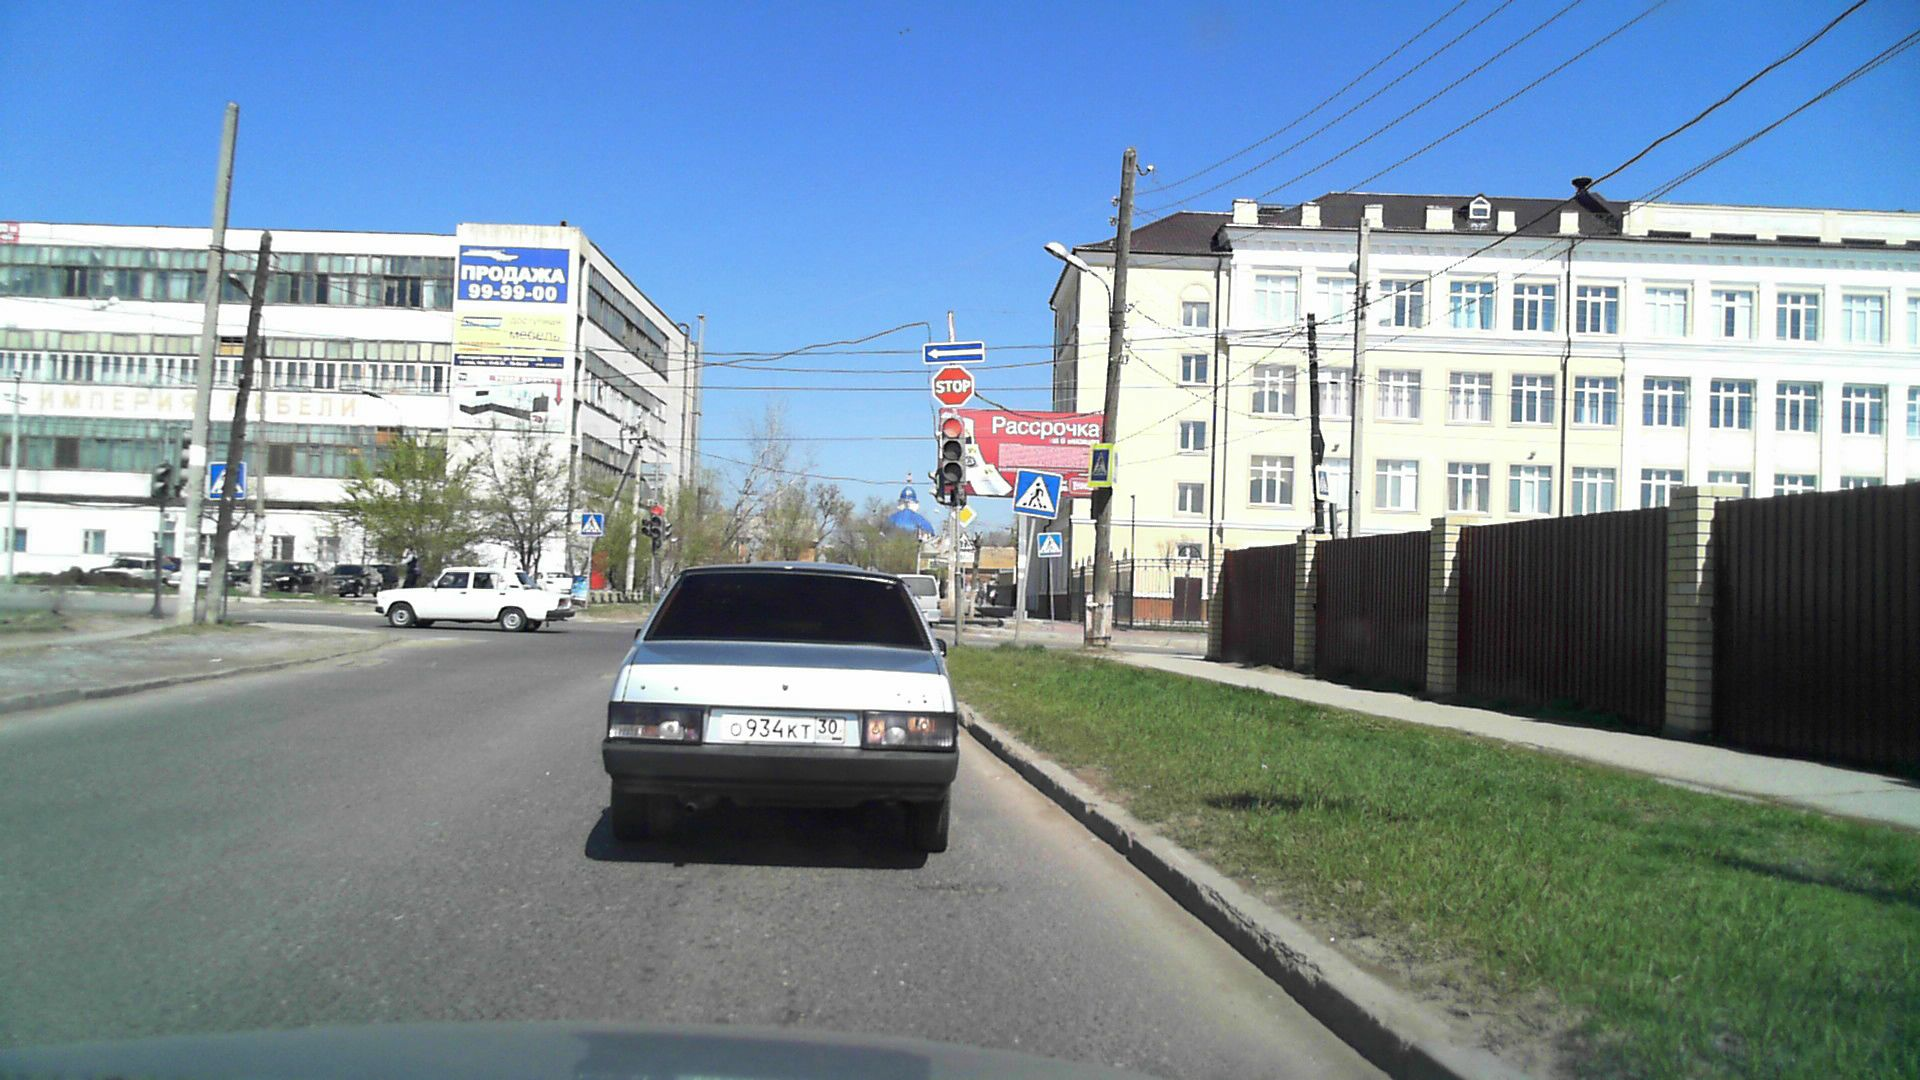One-Way Traffic: (923, 342, 985, 363)
Pedestrian Crossing: (1015, 469, 1058, 518)
